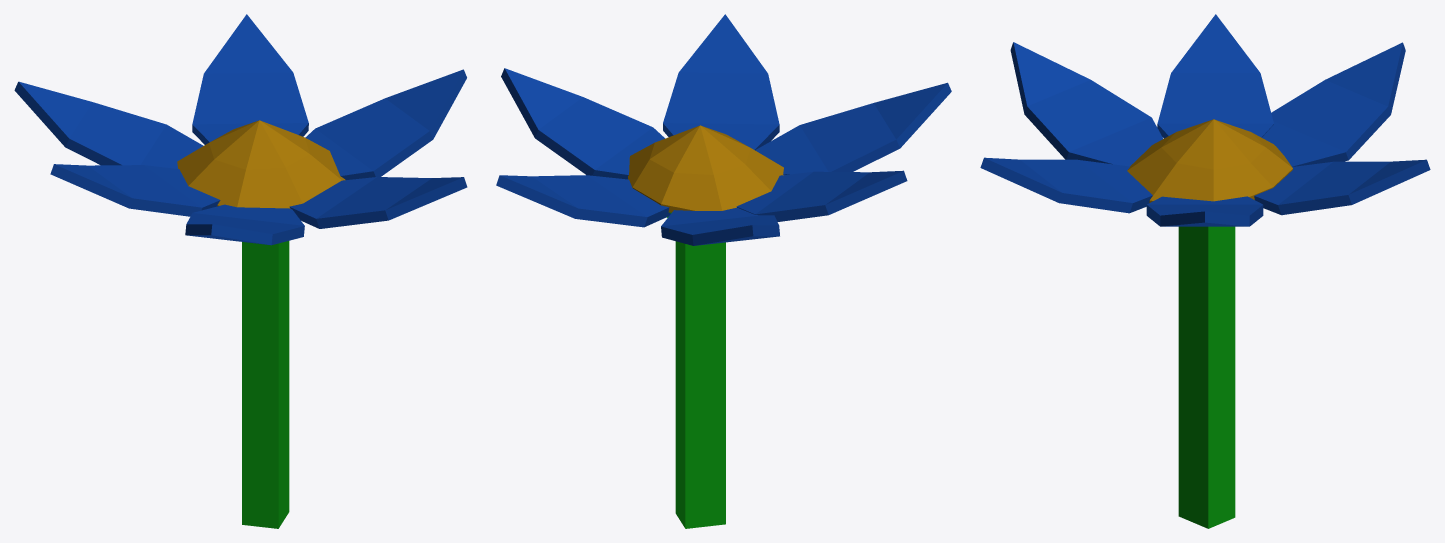
Rendered from lightblueyellowflower.obj.
3 renders of one model, left to right at view 1: azimuth 30°, elevation 25°; view 2: azimuth 150°, elevation 25°; view 3: azimuth 270°, elevation 25°, orthographic.
Visible parts, largest first — view 1: Cube.001_Cube.026; view 2: Cube.001_Cube.026; view 3: Cube.001_Cube.026.
Part boxes in pixels (<box>): Cube.001_Cube.026: <box>14,14,467,528</box>; Cube.001_Cube.026: <box>496,14,951,528</box>; Cube.001_Cube.026: <box>980,14,1430,528</box>.
Bounding box in the file's own units: 0.0892 × 0.0832 × 0.0845.
